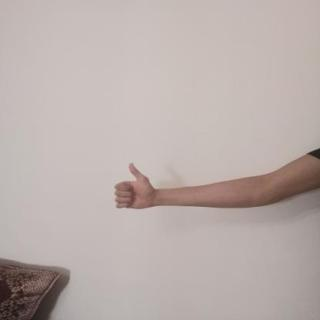ALIF: (103, 159, 164, 215)
